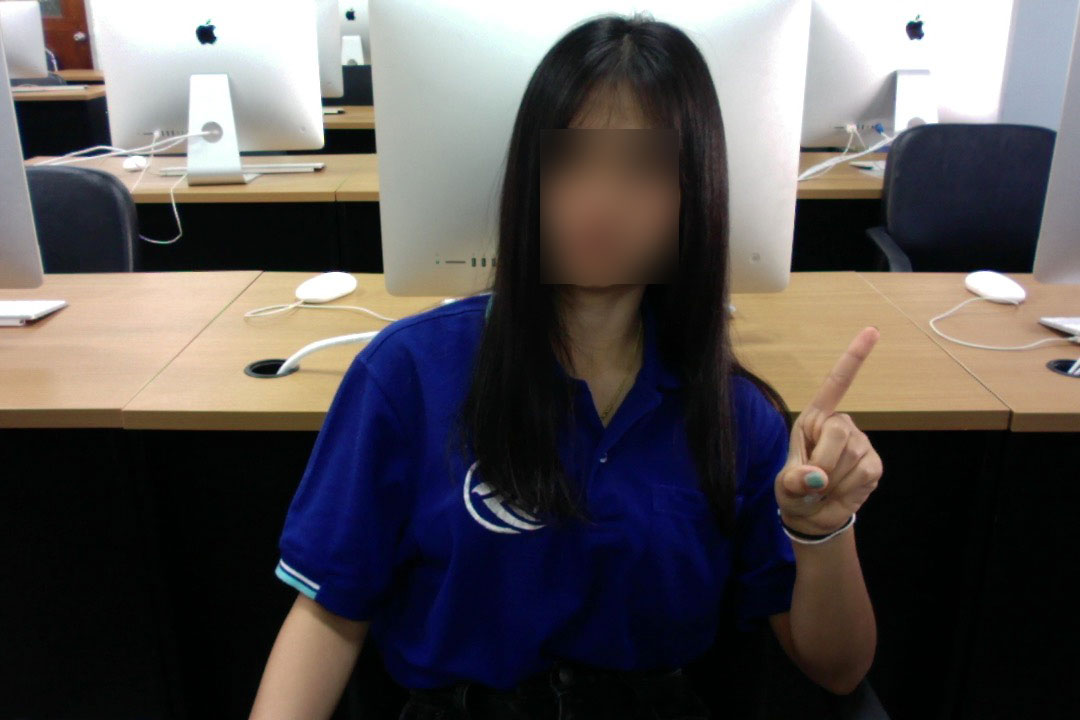dor: (762, 317, 899, 552)
